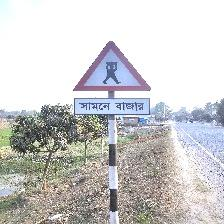Market-in-front: (72, 42, 152, 116)
